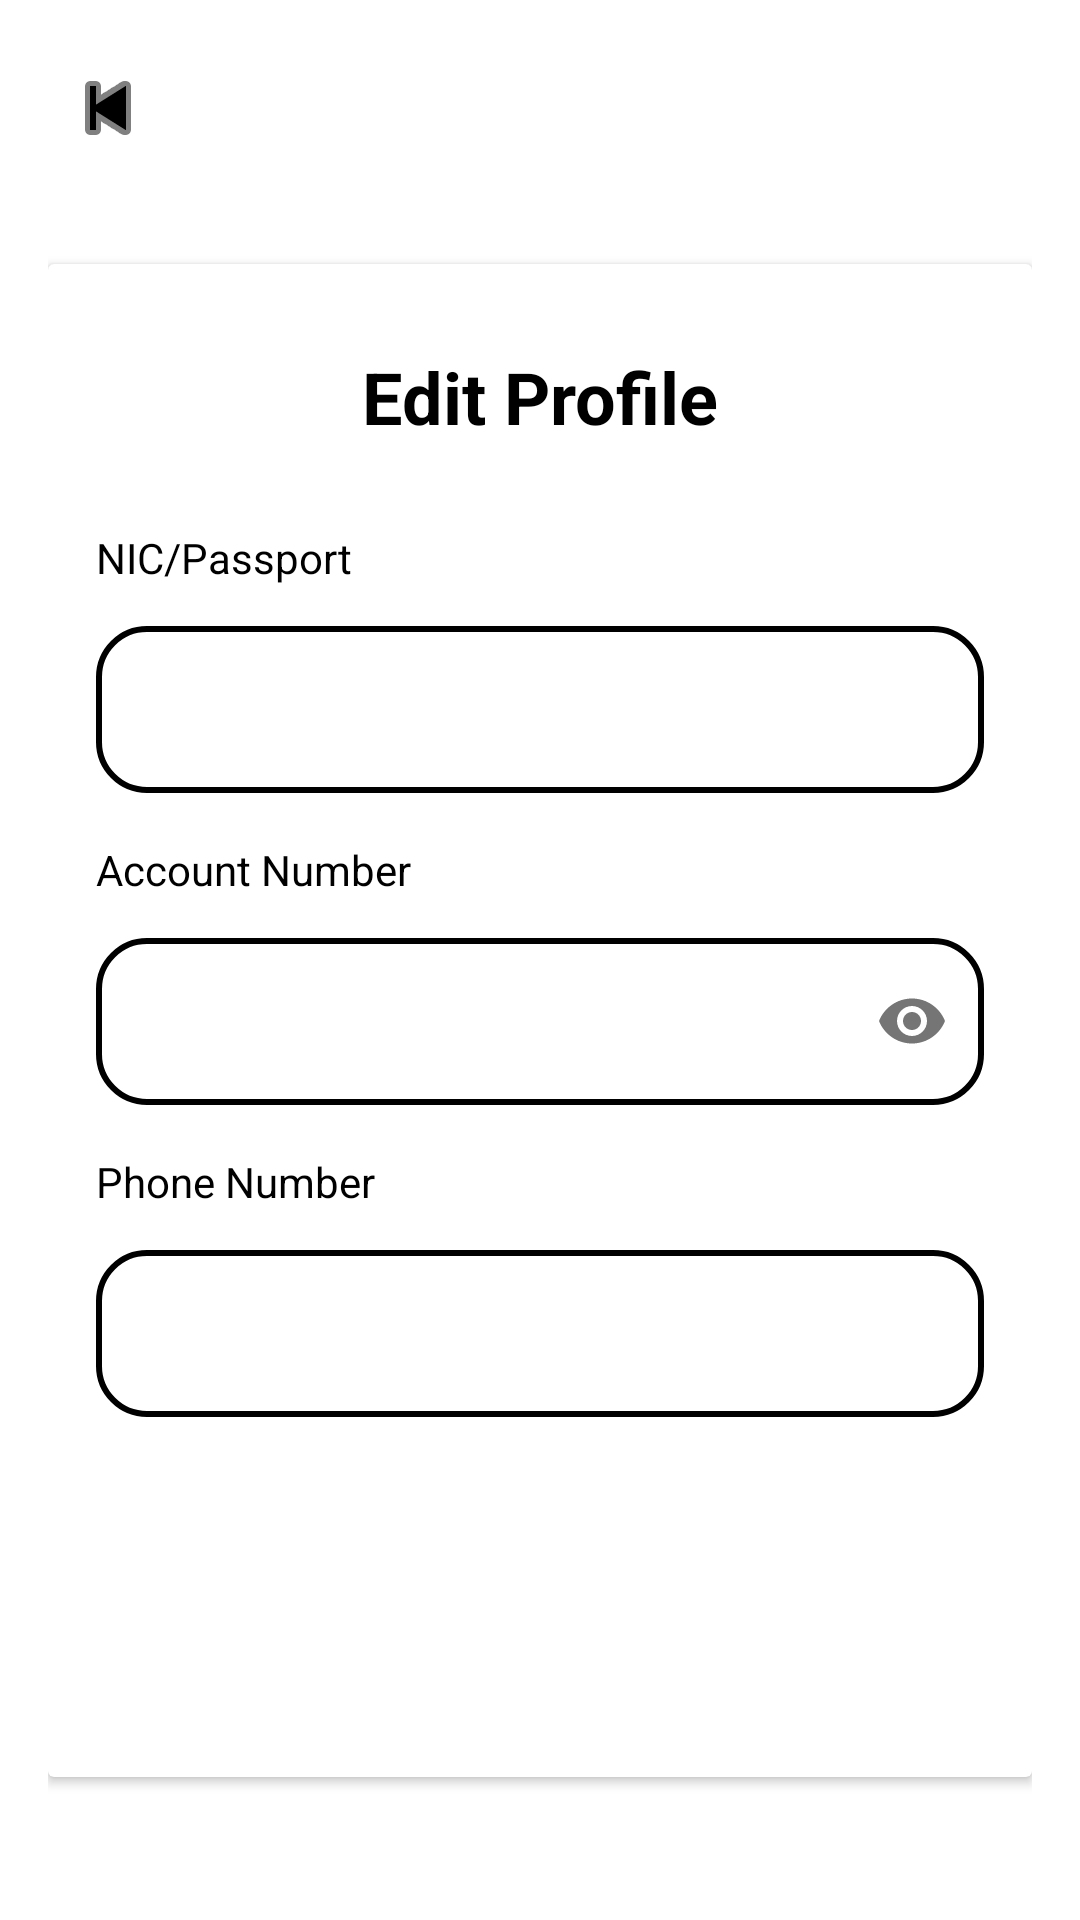

Named icons in this screenshot (1080px x 1920px) and their centers, (x=x, y=y):
previous: (x=108, y=108)
